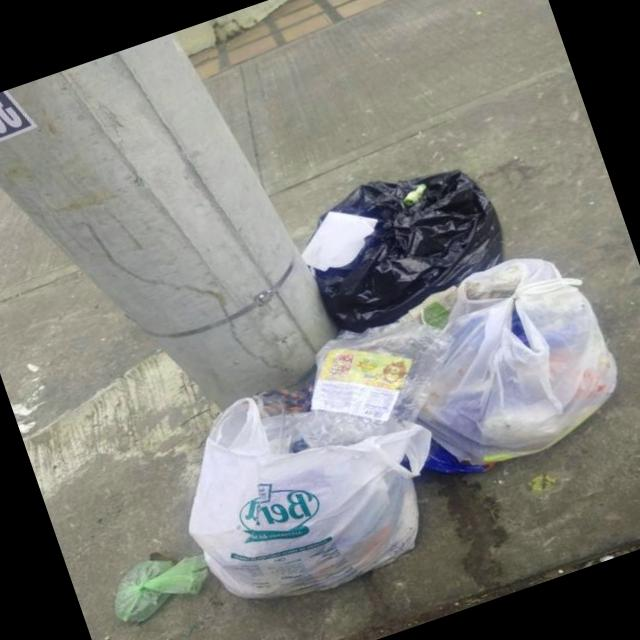high trash: (113, 170, 617, 628)
